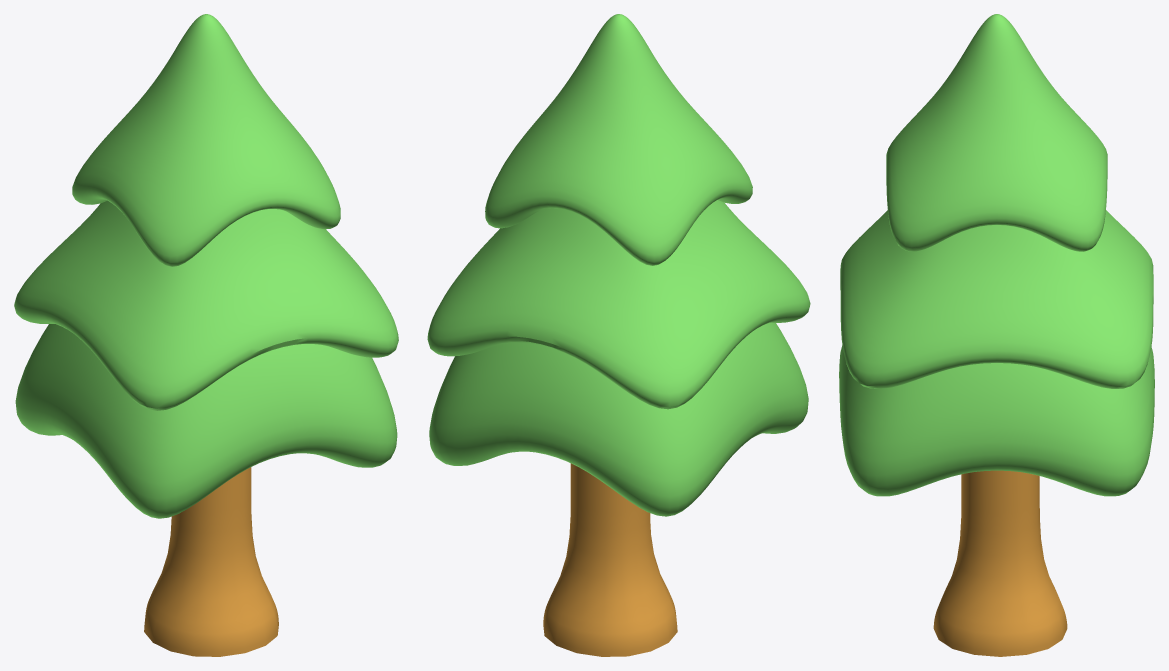
Rendered from tree.fbx.
The picture shows the model from 3 angles, left to right: view 1: azimuth 30°, elevation 25°; view 2: azimuth 150°, elevation 25°; view 3: azimuth 270°, elevation 25°; orthographic projection.
Visible parts, largest first — view 1: tree; view 2: tree; view 3: tree.
Part boxes in pixels (bbox=[...]): tree: bbox=[14, 14, 398, 656]; tree: bbox=[427, 14, 810, 656]; tree: bbox=[839, 14, 1154, 656].
Bounding box in the file's own units: 225 × 480 × 225.
